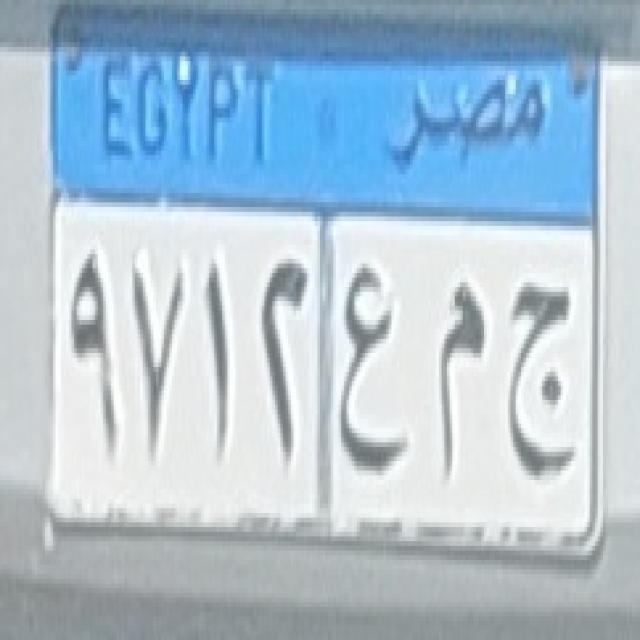1: (191, 250, 244, 477)
2: (248, 252, 318, 474)
7: (121, 247, 196, 468)
9: (66, 244, 130, 468)
Een: (330, 254, 412, 480)
Meem: (426, 279, 493, 497)
geem: (498, 280, 583, 488)
